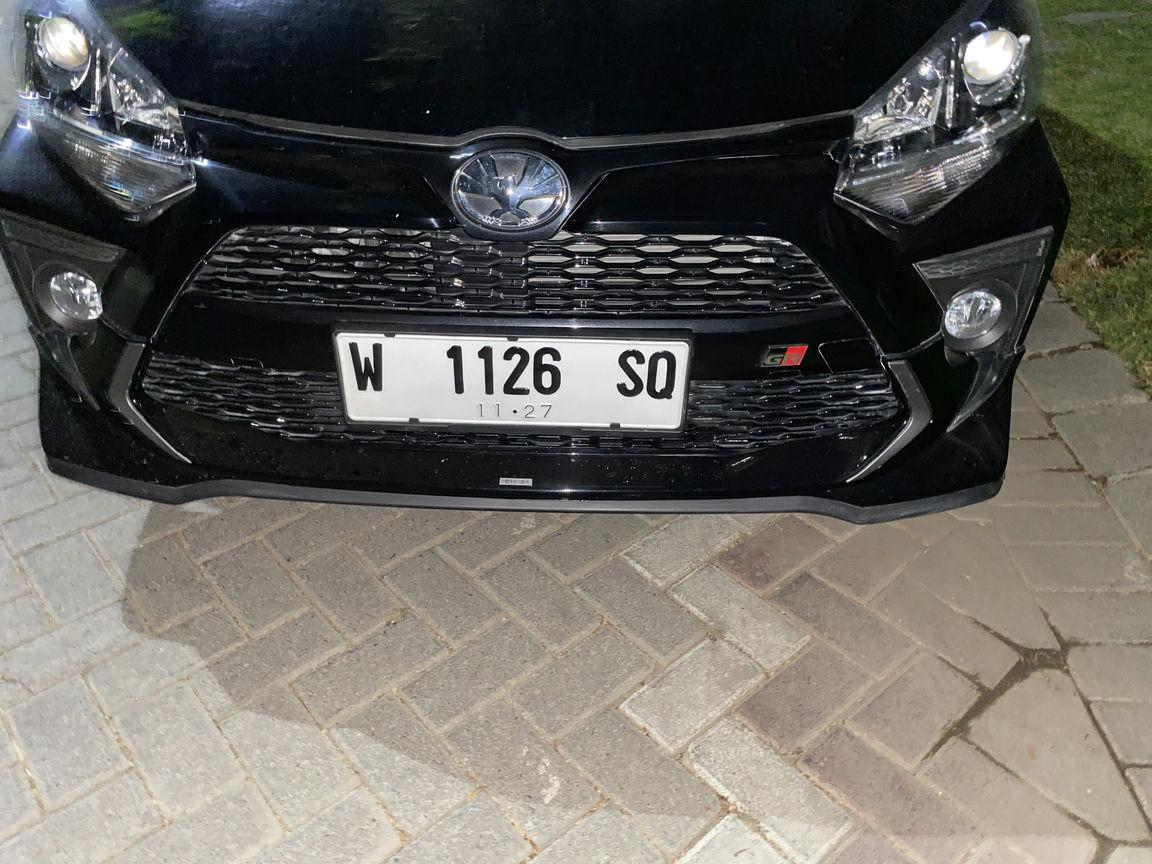plat: (336, 333, 691, 432)
